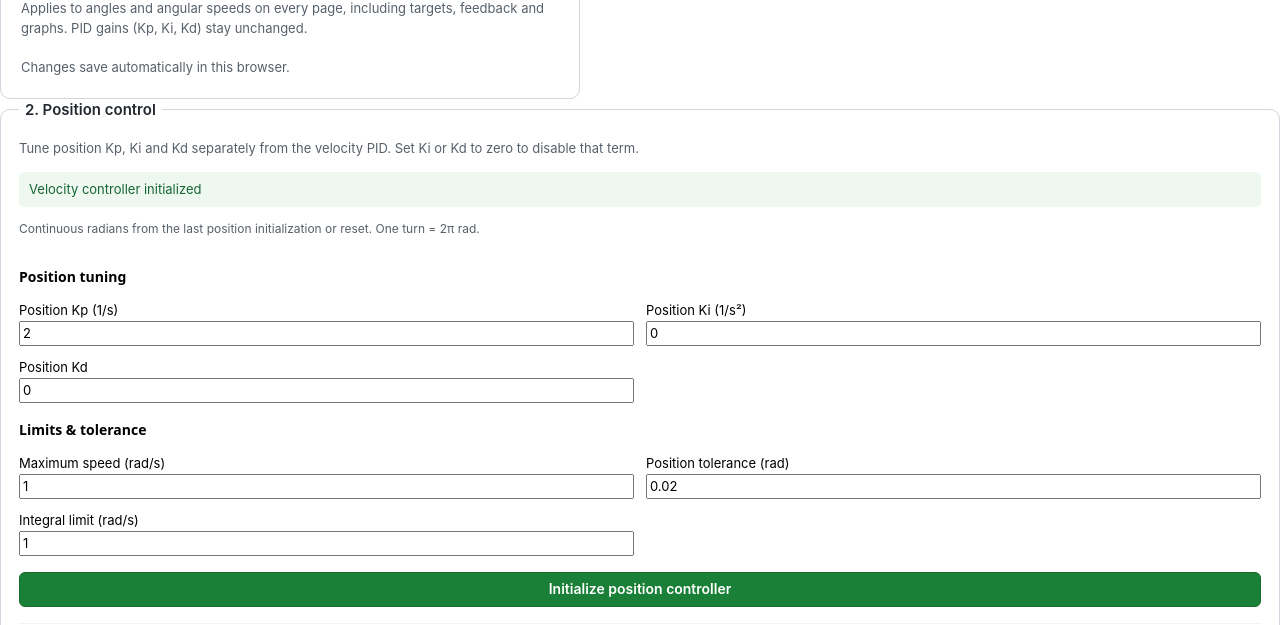
Scenario: position controls › sets and reads multi-turn radians, then resets target to zero
The image size is (1280, 625).
Step 1. Click the button "Initialize position controller" → (640, 589), box top-left (19, 572), bottom-right (1261, 607)
(page scrolled)
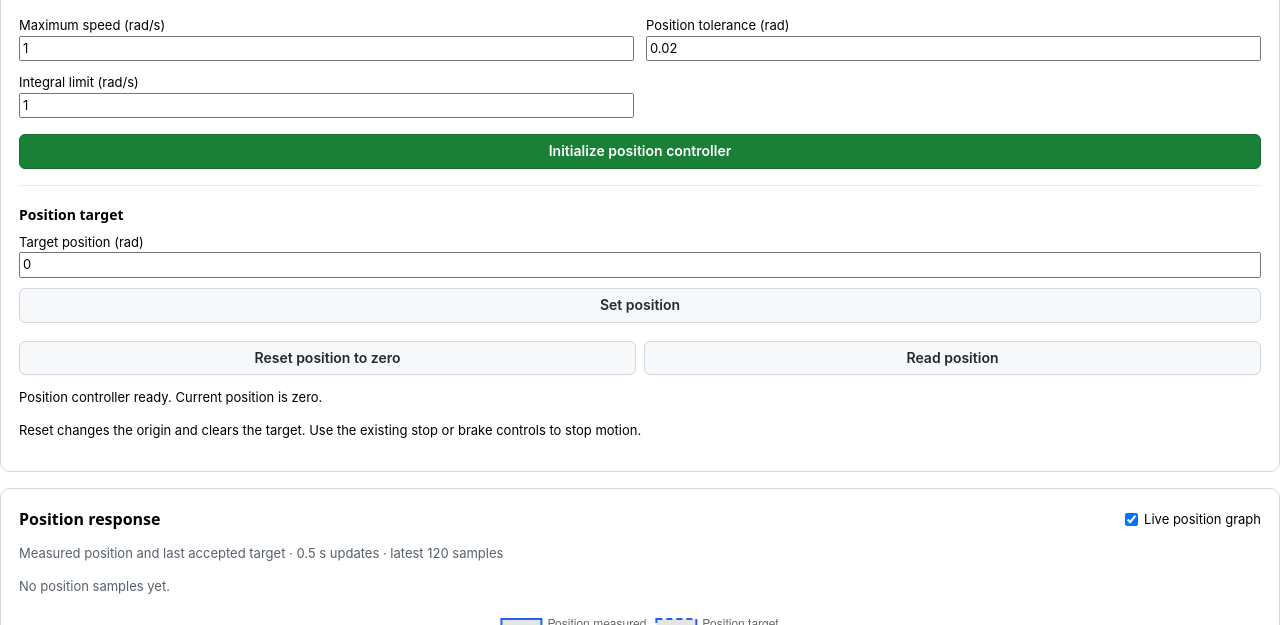
Expected: the button "Set position" is enabled, top-left (19, 288), bottom-right (1261, 323)
Step 2. Replace the text in the number field labelled "Target position (rad)" with "-12.5" → (640, 265), box top-left (19, 252), bottom-right (1261, 278)
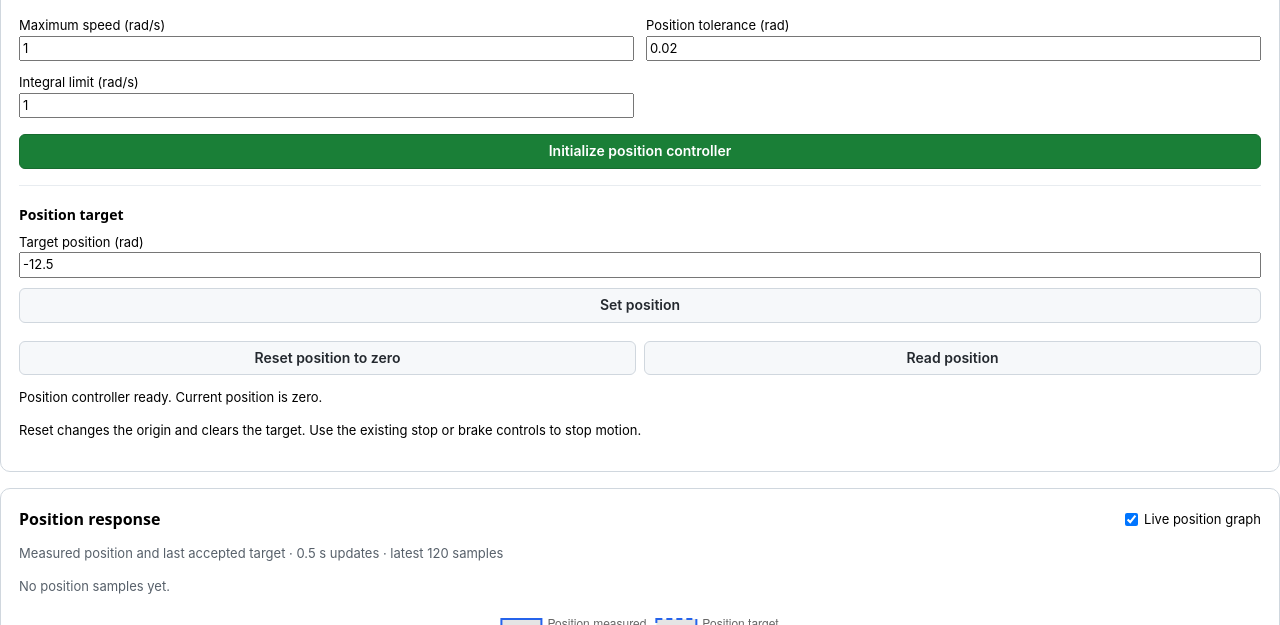
Step 3. Click the button "Set position" → (640, 305), box top-left (19, 288), bottom-right (1261, 323)
(page scrolled)
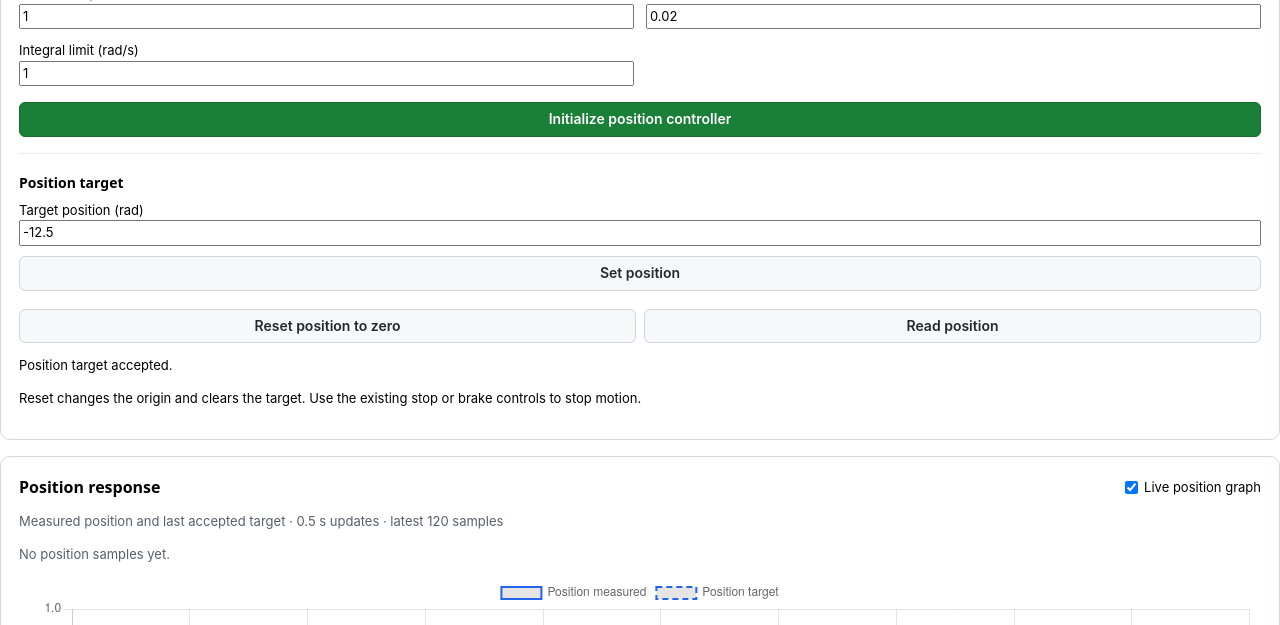
Expected: the text "Position target accepted." is shown, top-left (19, 357), bottom-right (172, 373)
Step 4. Click the button "Read position" → (952, 326), box top-left (644, 309), bottom-right (1261, 343)
(page scrolled)
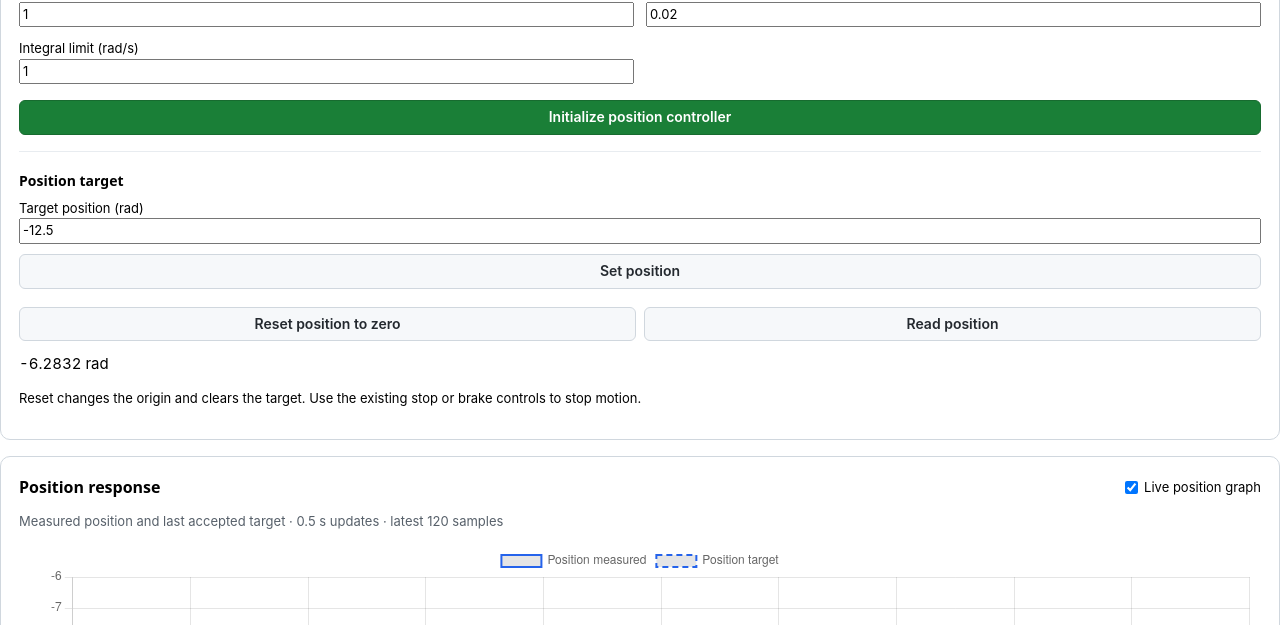
Expected: the text named "Current position" reads "-6.2832 rad", top-left (19, 354), bottom-right (109, 373)
Step 5. Click the button "Reset position to zero" → (328, 324), box top-left (19, 307), bottom-right (636, 341)
(page scrolled)
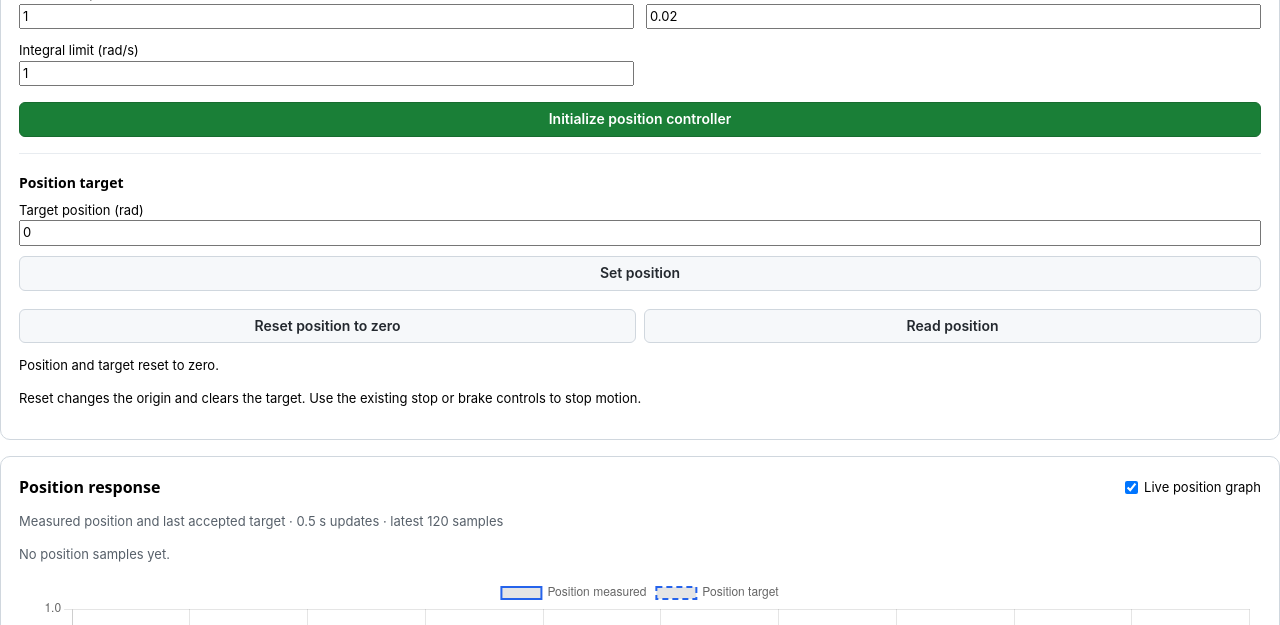
Expected: the text "Position and target reset to zero." is shown, top-left (19, 357), bottom-right (219, 373)
Expected: the number field labelled "Target position (rad)" holds "0", top-left (19, 220), bottom-right (1261, 246)
